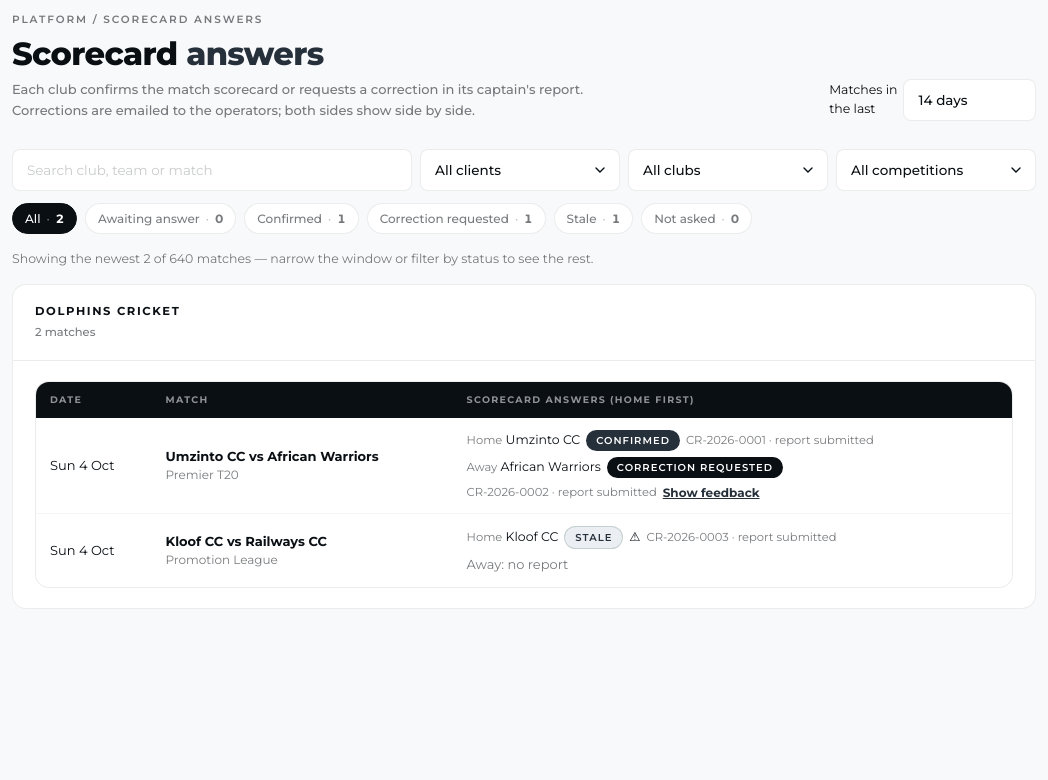
Scenario: CaptainsReportScorecardsPage › says when rows were cut, and shows an empty state when nothing matches
Expected: the message shows "Showing the newest 2 of 640", [12,250,594,266]
Click the button "Stale · 1": [593, 218] box [554,202,633,234]
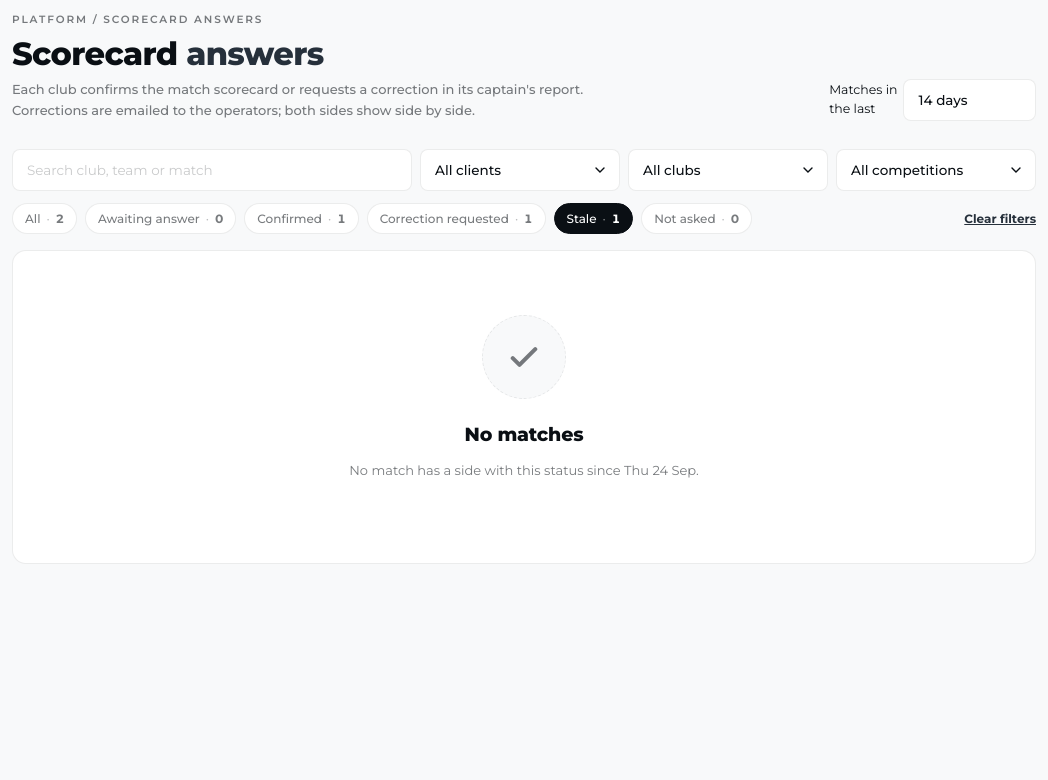
Now the text "No matches" is shown, box [464,422,584,446]
Now the text "No match has a side with this status since Thu 24 Sep." is shown, box [349,462,699,478]
